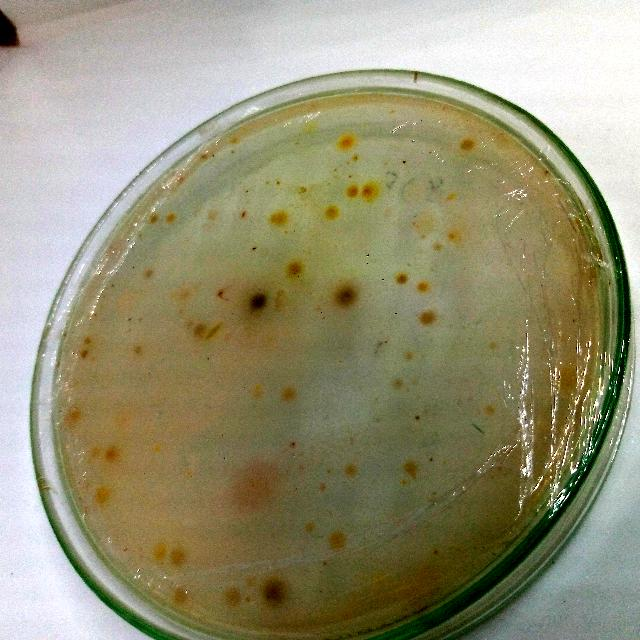colony: (252, 572, 294, 612), (240, 286, 274, 316), (330, 280, 364, 310), (324, 525, 351, 555), (168, 582, 195, 608), (168, 543, 195, 569), (413, 562, 442, 586), (281, 256, 309, 280), (92, 482, 116, 506), (400, 458, 426, 480), (414, 307, 438, 329), (359, 180, 381, 202), (278, 381, 298, 405), (220, 584, 243, 604), (298, 516, 318, 536), (480, 400, 500, 420), (320, 202, 340, 222), (248, 382, 268, 402), (154, 539, 173, 559), (413, 278, 433, 296), (387, 374, 407, 392), (343, 182, 363, 200), (459, 134, 477, 154), (441, 228, 462, 245), (66, 403, 84, 422), (101, 445, 119, 463), (428, 238, 446, 255), (296, 183, 314, 200), (408, 408, 426, 424), (140, 267, 158, 283), (190, 322, 208, 338), (336, 134, 354, 150), (342, 459, 358, 476), (78, 332, 95, 348), (78, 348, 94, 364), (394, 271, 410, 287), (163, 210, 179, 226), (400, 348, 418, 362), (275, 210, 289, 226), (215, 285, 229, 301), (130, 342, 148, 354), (314, 480, 330, 492), (146, 212, 160, 225), (431, 546, 442, 558), (250, 242, 260, 254), (350, 152, 362, 162), (272, 178, 284, 186), (238, 210, 248, 218), (343, 158, 353, 166), (330, 166, 340, 174), (400, 158, 410, 166), (346, 172, 354, 180), (271, 214, 279, 222), (448, 196, 452, 202), (449, 194, 455, 198)
